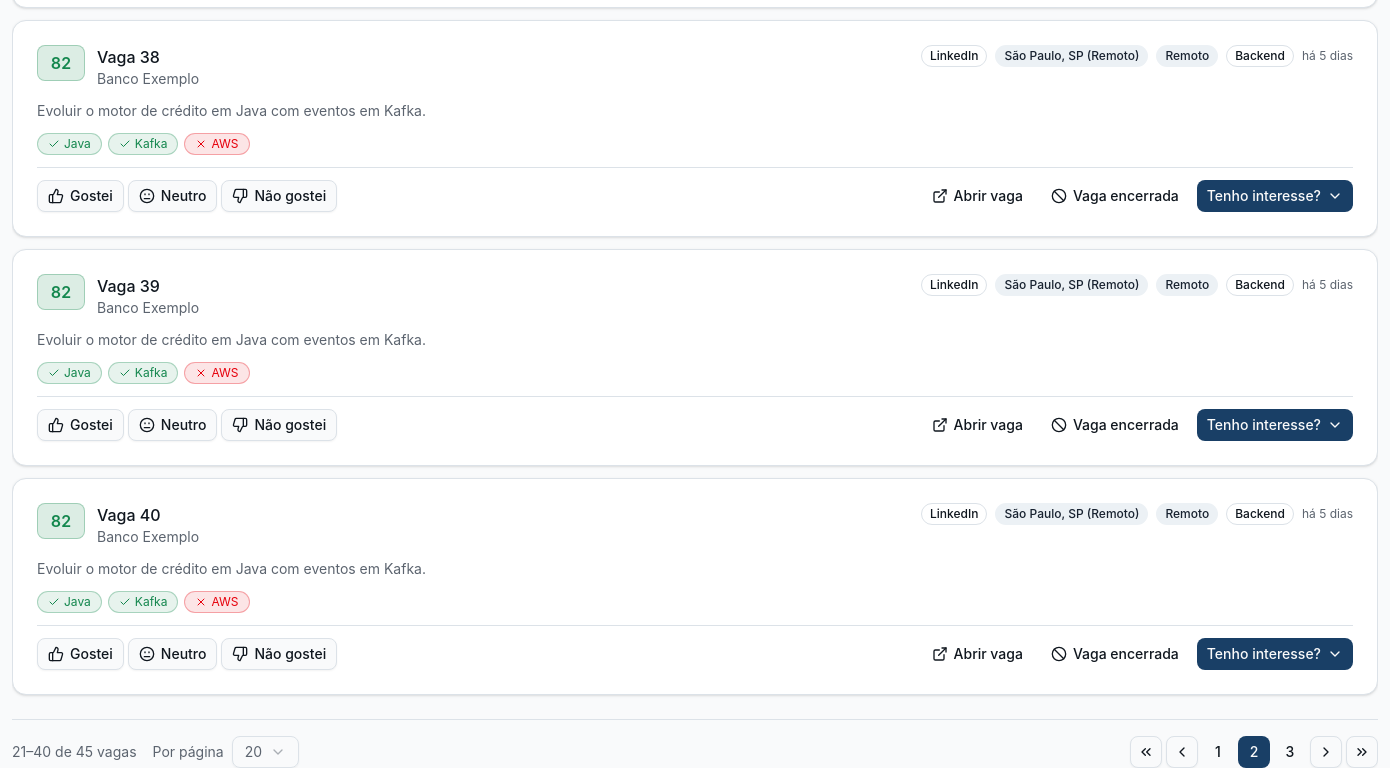
InboxPage › deixa escolher quantas vagas mostrar e lembra a escolha
(page scrolled)
Check: the text "21–40 de 45 vagas" is shown, box [12, 742, 136, 762]
Click the dropdown named "Itens por página": (265, 752) [232, 736, 299, 767]
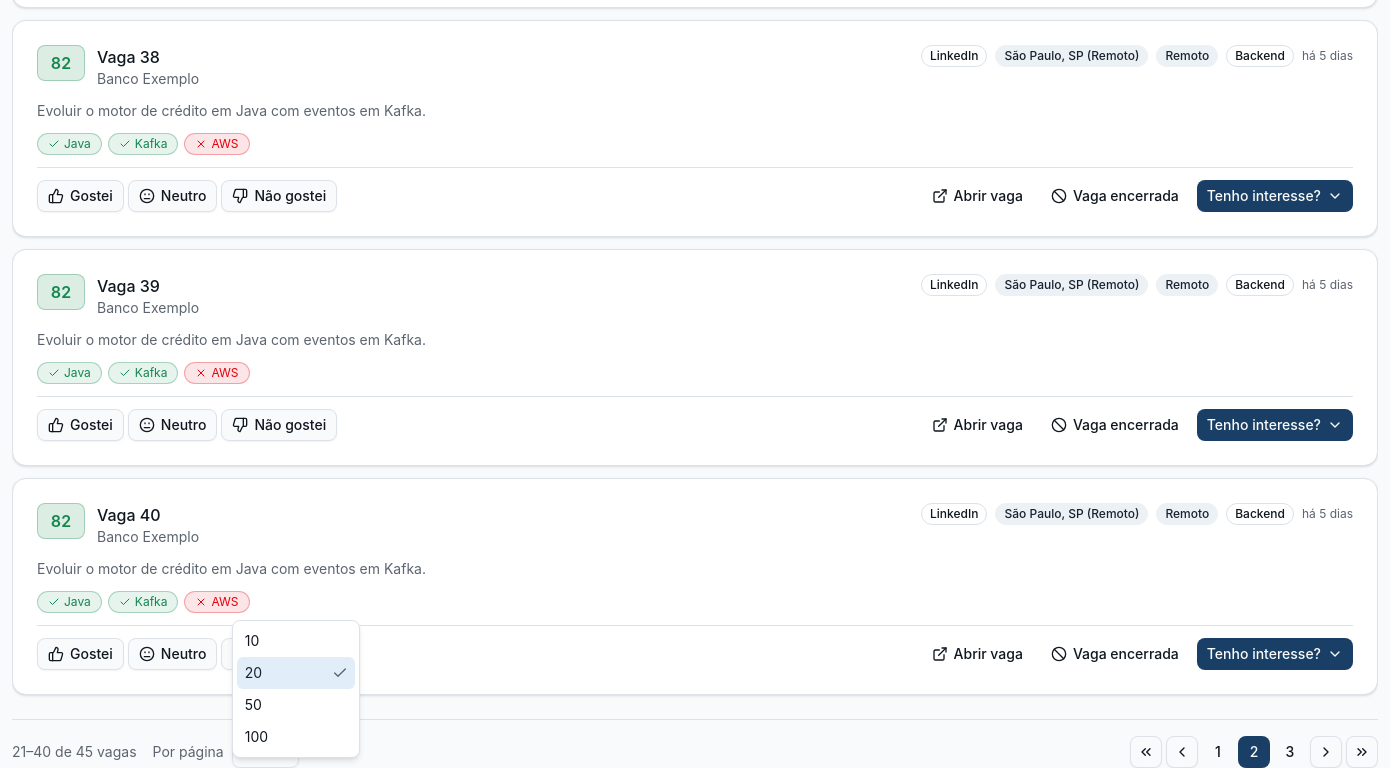
Click the option "50": (253, 704) [245, 696, 262, 713]
(page scrolled)
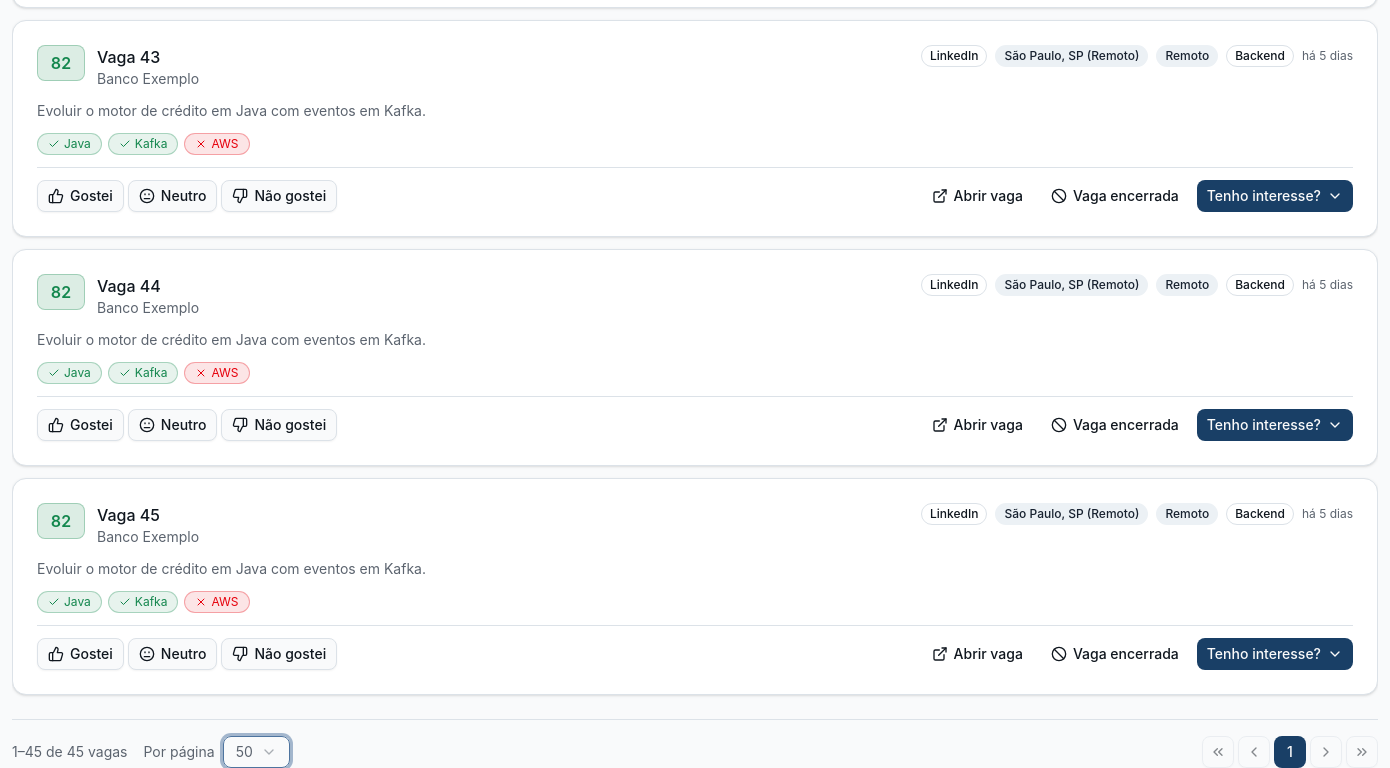
Check: the text "1–45 de 45 vagas" is shown, box [12, 742, 128, 762]
